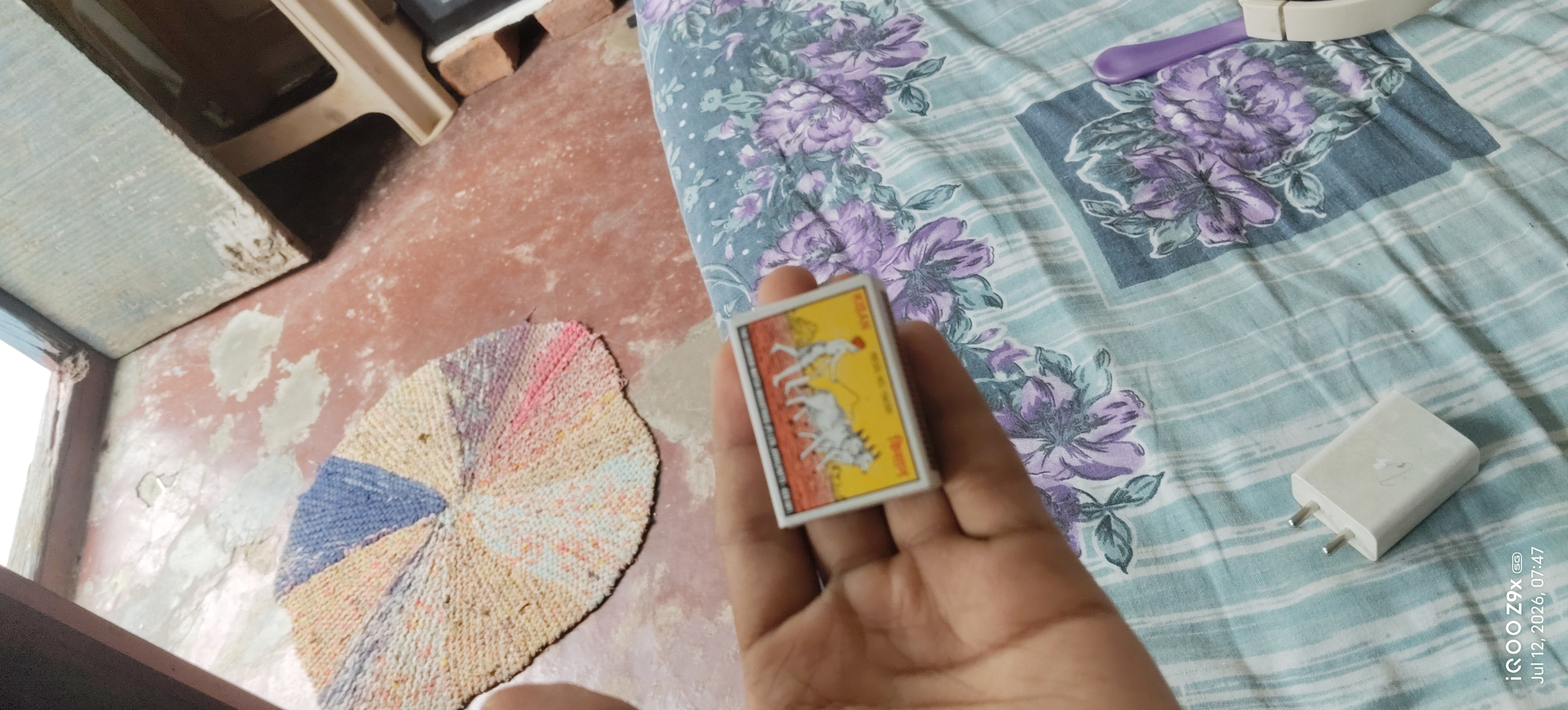charger: (1251, 386, 1499, 575)
matchbox: (708, 263, 978, 542)
